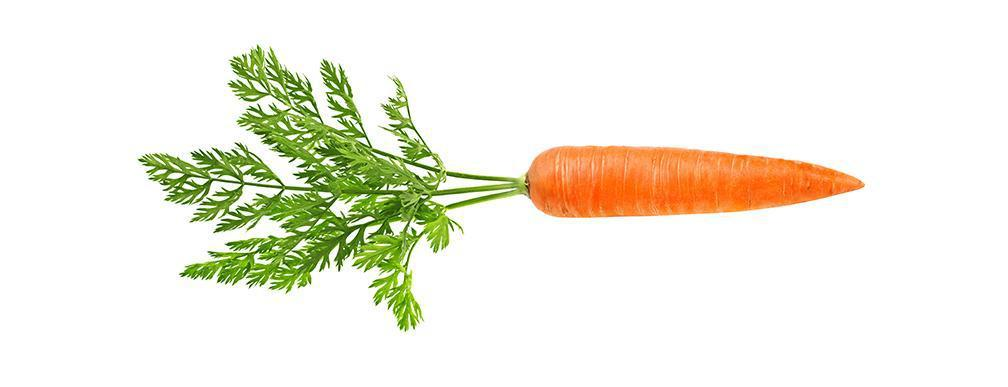carrot: (206, 93, 897, 263)
